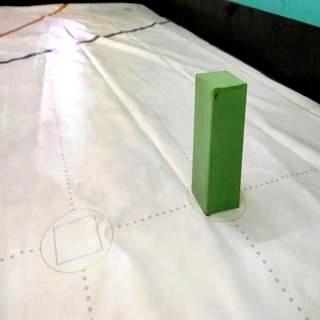greenbox: (190, 70, 248, 215)
